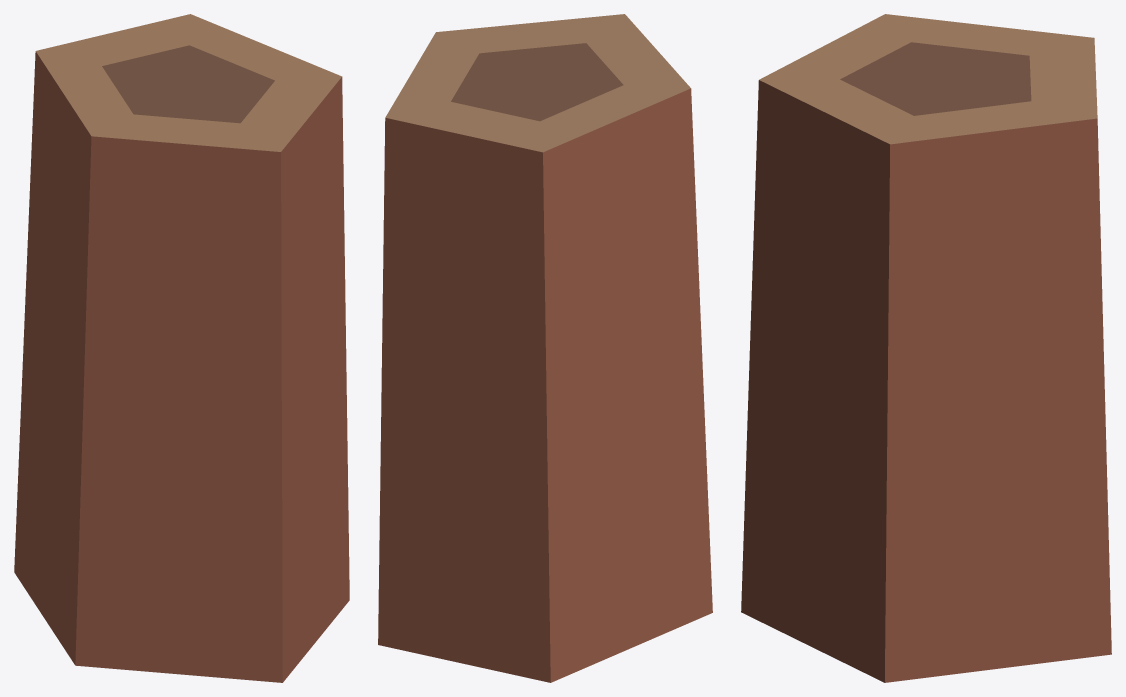
File: TB_Env_Trunk_Long_A.FBX
The picture shows the model from 3 angles, left to right: view 1: azimuth 30°, elevation 25°; view 2: azimuth 150°, elevation 25°; view 3: azimuth 270°, elevation 25°; orthographic projection. The views are drawn at different scales.
Visible parts, largest first — view 1: TB_Env_Trunk_Long_A; view 2: TB_Env_Trunk_Long_A; view 3: TB_Env_Trunk_Long_A.
Boxes of the visible parts, x1=… form: TB_Env_Trunk_Long_A: x1=14, y1=14, x2=349, y2=682; TB_Env_Trunk_Long_A: x1=378, y1=14, x2=712, y2=682; TB_Env_Trunk_Long_A: x1=741, y1=14, x2=1111, y2=682.
Bounding box in the file's own units: 0.7628 × 1.39 × 0.8624.
